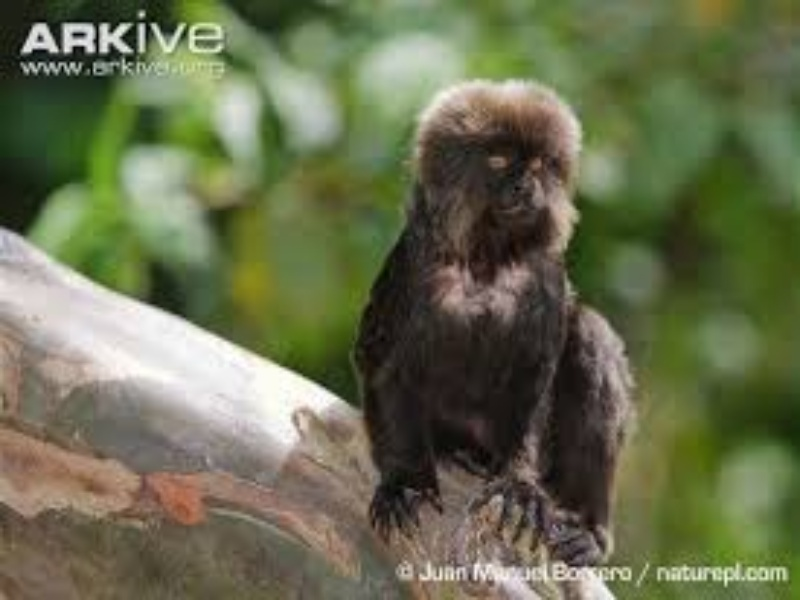monkey: (327, 59, 650, 551)
